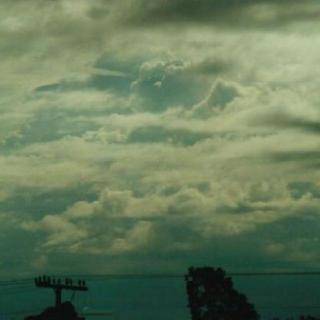Stratocumulus: (6, 0, 320, 258)
